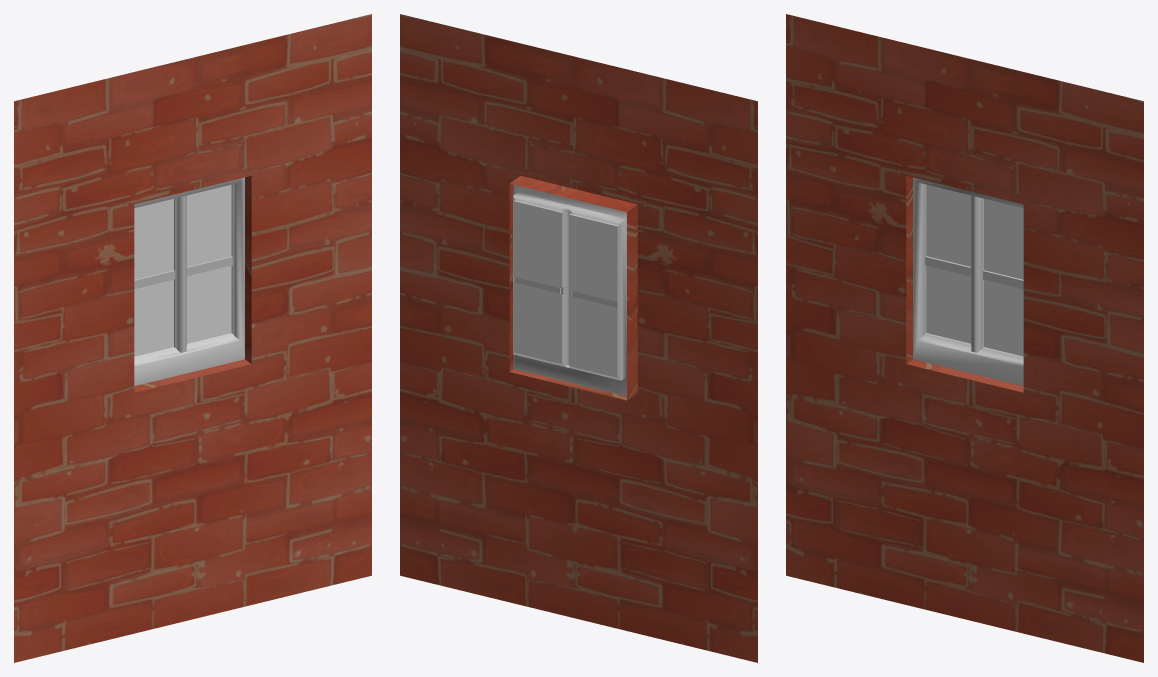
File: Window_03.fbx
3 views of the same model, side by side, from view 1: azimuth 30°, elevation 25°; view 2: azimuth 150°, elevation 25°; view 3: azimuth 330°, elevation 25° (orthographic).
Visible parts, largest first — view 1: Window_03; view 2: Window_03; view 3: Window_03.
Part boxes in pixels (left/top/right/bottom): Window_03: left=14, top=14, right=371, bottom=662; Window_03: left=400, top=14, right=757, bottom=662; Window_03: left=786, top=14, right=1143, bottom=662.
Size of the model in its own units: 2 by 3 by 0.1292.
